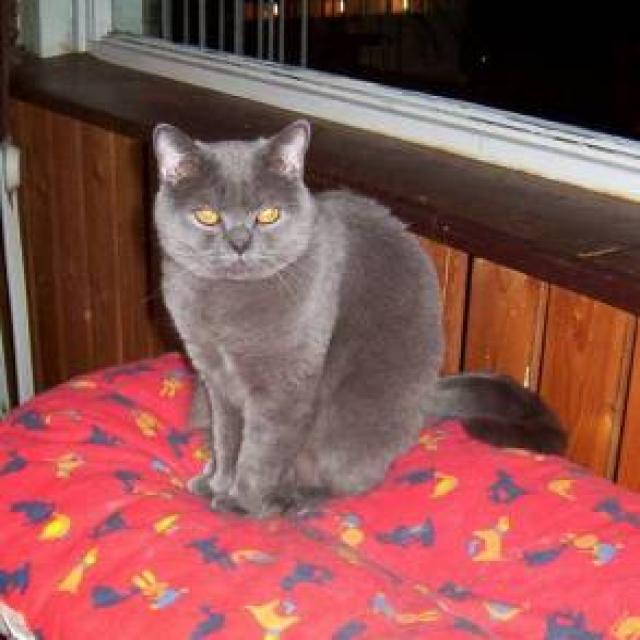British_Shorthair: (148, 122, 327, 284)
